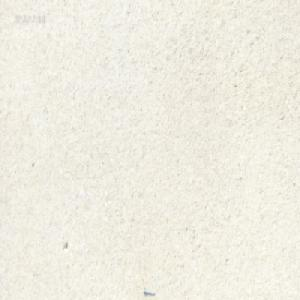Nail: (142, 288, 154, 296)
